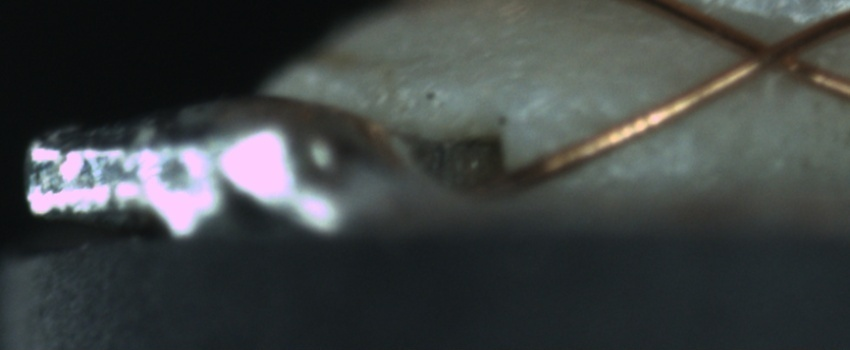CL: (717, 14, 821, 85)
